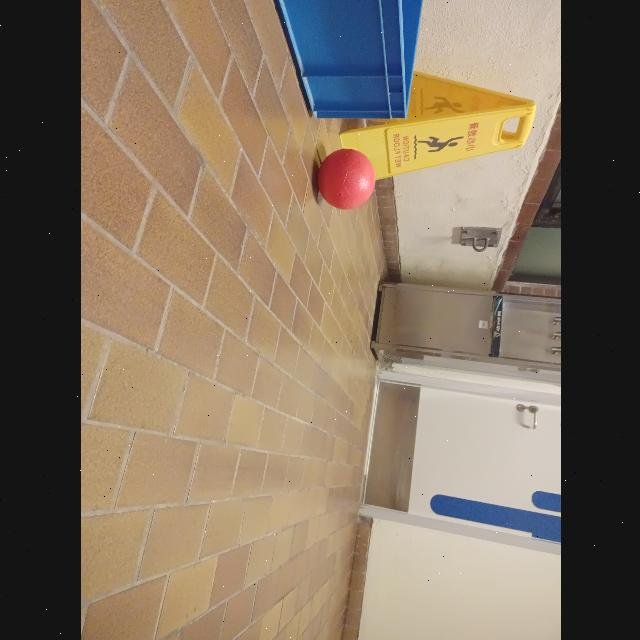R: (317, 148, 375, 210)
